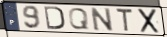9: (22, 5, 43, 30)
D: (43, 5, 66, 31)
N: (89, 7, 115, 32)
Q: (67, 7, 90, 30)
T: (115, 7, 134, 33)
X: (137, 8, 161, 34)
